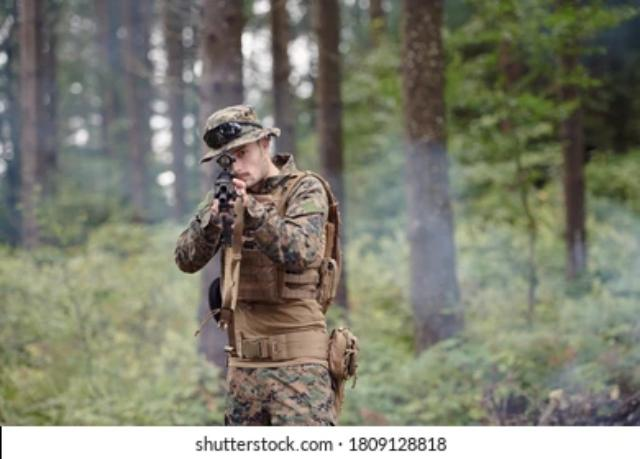other: (172, 106, 356, 427)
